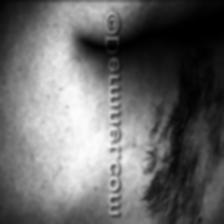Potentially Malignant Skin Tumors: (166, 28, 214, 72)
